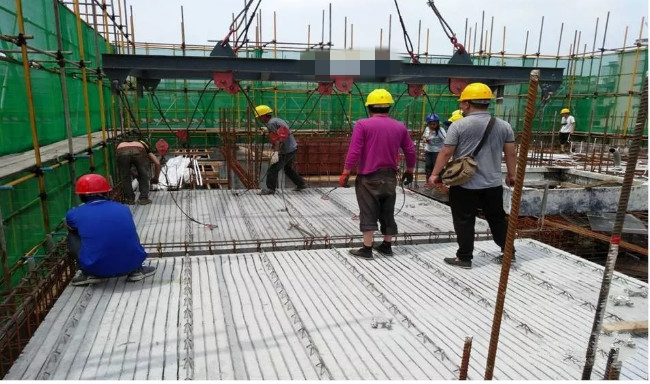helmet: (457, 81, 496, 102), (75, 174, 111, 193), (364, 88, 397, 108), (254, 104, 273, 117), (425, 113, 439, 120)
person: (426, 79, 521, 269), (337, 85, 419, 263), (66, 172, 159, 289), (253, 104, 311, 197), (115, 137, 160, 206), (420, 113, 445, 184), (557, 108, 576, 154)
